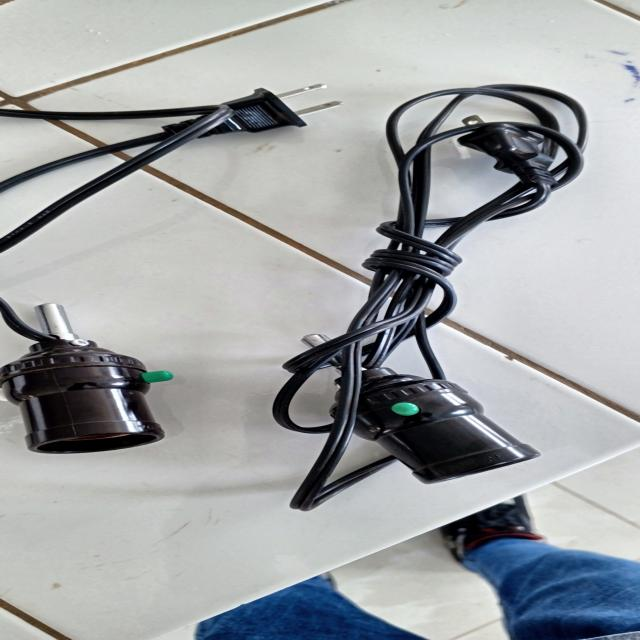Bulb Socket: (9, 74, 592, 506)
